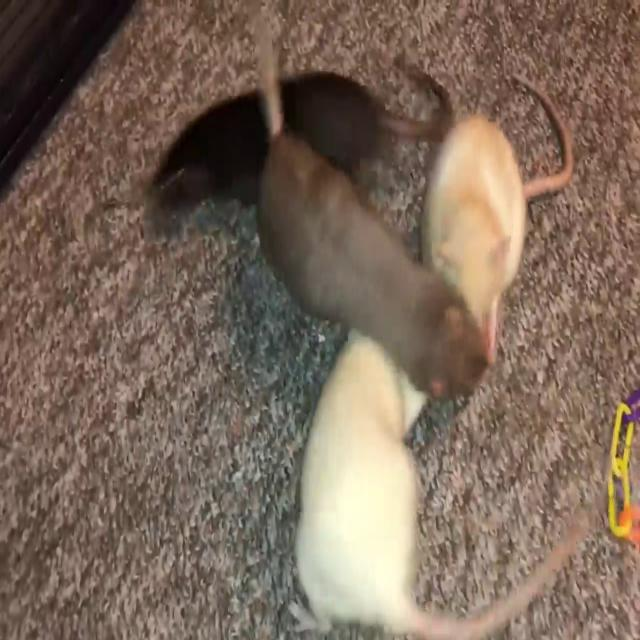rat: (290, 335, 582, 640), (261, 122, 484, 393), (146, 64, 394, 183), (432, 93, 526, 326)
